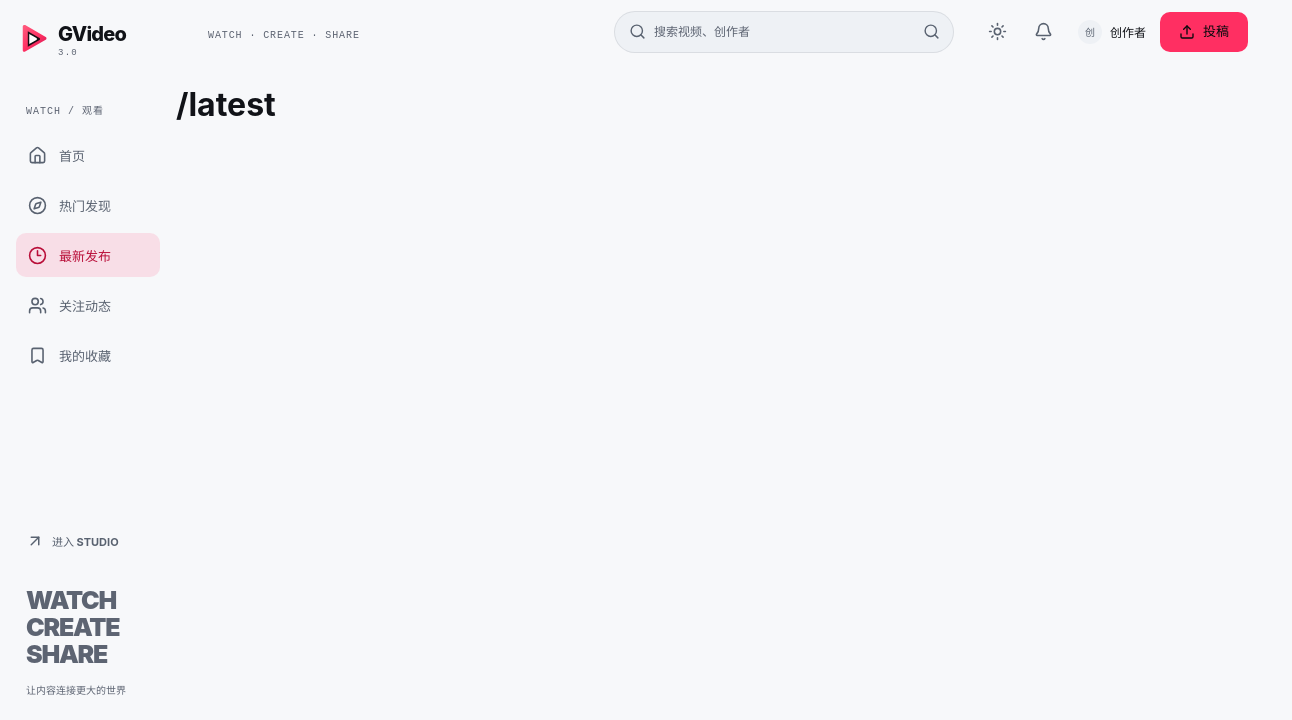
ApplicationShell navigation › Watch 导航与创作导航分开，搜索仍回到带查询参数的首页
In the field labelled "搜索": (780, 32) [654,12,907,52], type "  音乐 & 影像  "
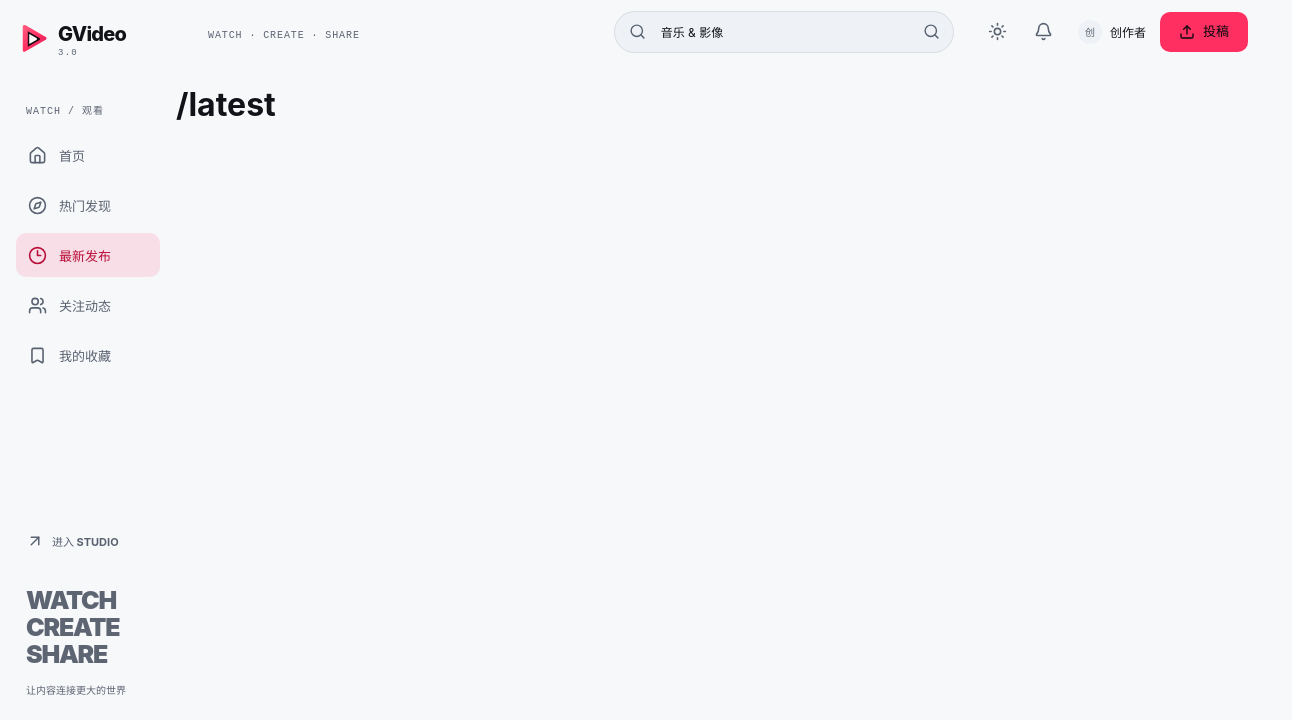
Submit the form named "搜索", box [614,10,954,52]
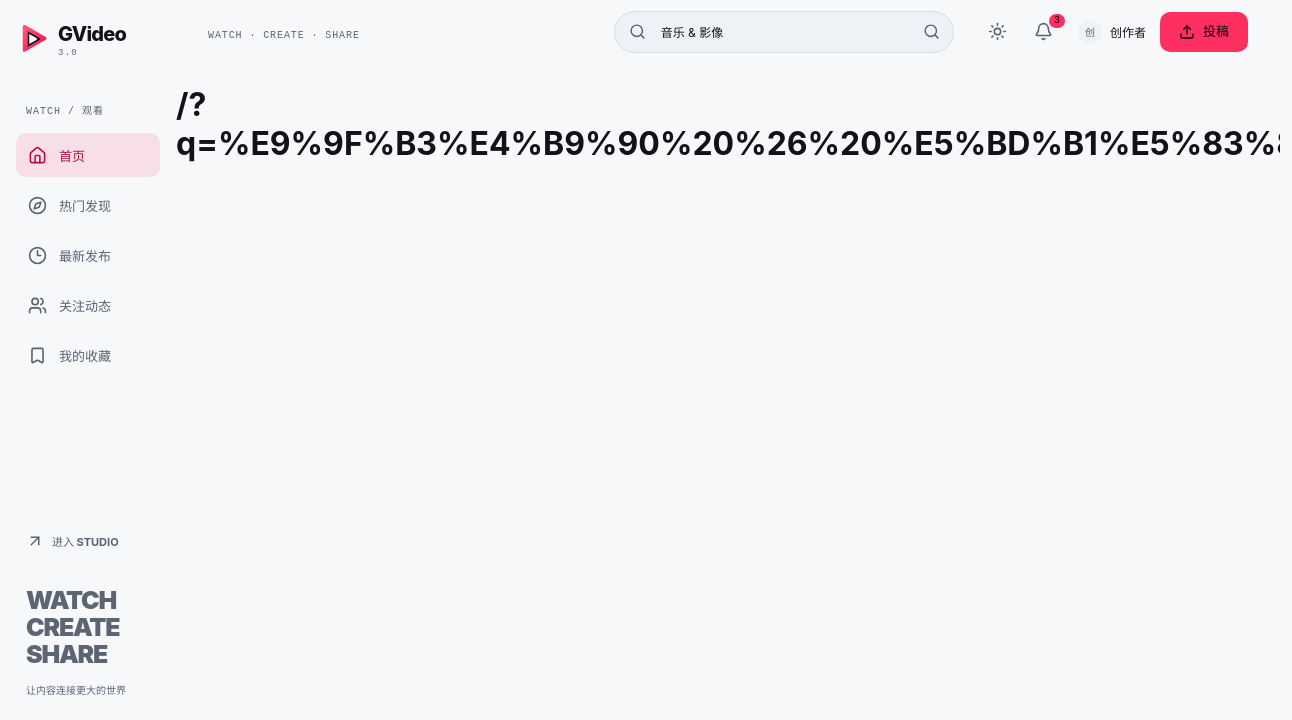
expect the heading "/?q=%E9%9F%B3%E4%B9%90%20%26%20%E5%BD%B1%E5%83%8F" is shown: met, box [176,85,1280,163]
expect the link named "通知中心，3 条未读" is shown: met, box [1034,12,1067,41]
